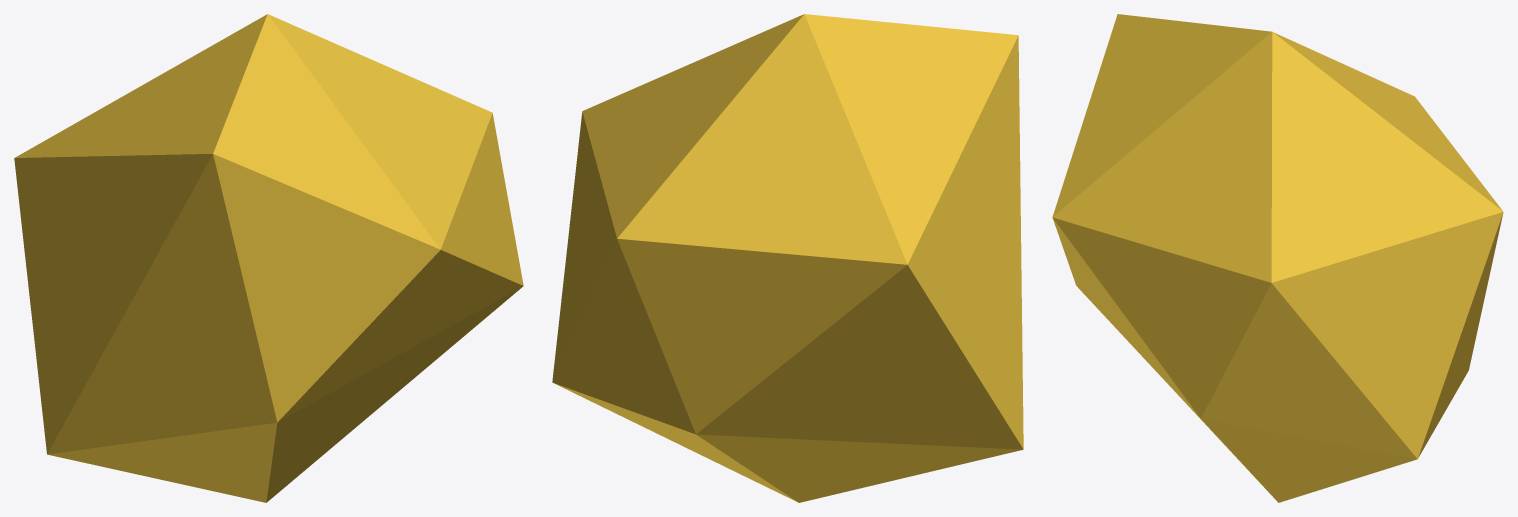
Rendered from Groundbait.fbx.
3 views of the same model, side by side, from view 1: azimuth 30°, elevation 25°; view 2: azimuth 150°, elevation 25°; view 3: azimuth 270°, elevation 25° (orthographic). The views are drawn at different scales.
Visible parts, largest first — view 1: groundbait; view 2: groundbait; view 3: groundbait.
Part boxes in pixels (x1,y1,x2,y2): groundbait: (14,14,523,502); groundbait: (552,14,1023,502); groundbait: (1052,14,1503,502).
Bounding box in the file's own units: 0.3274 × 0.3002 × 0.3453.
